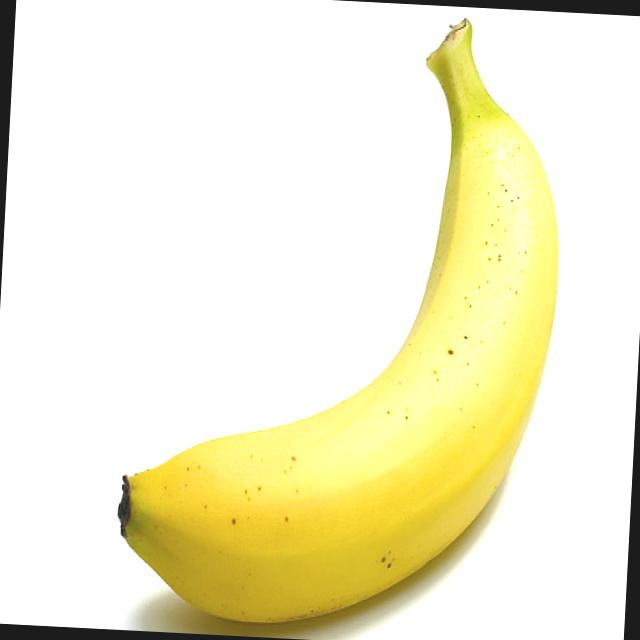banana: (112, 85, 576, 640)
